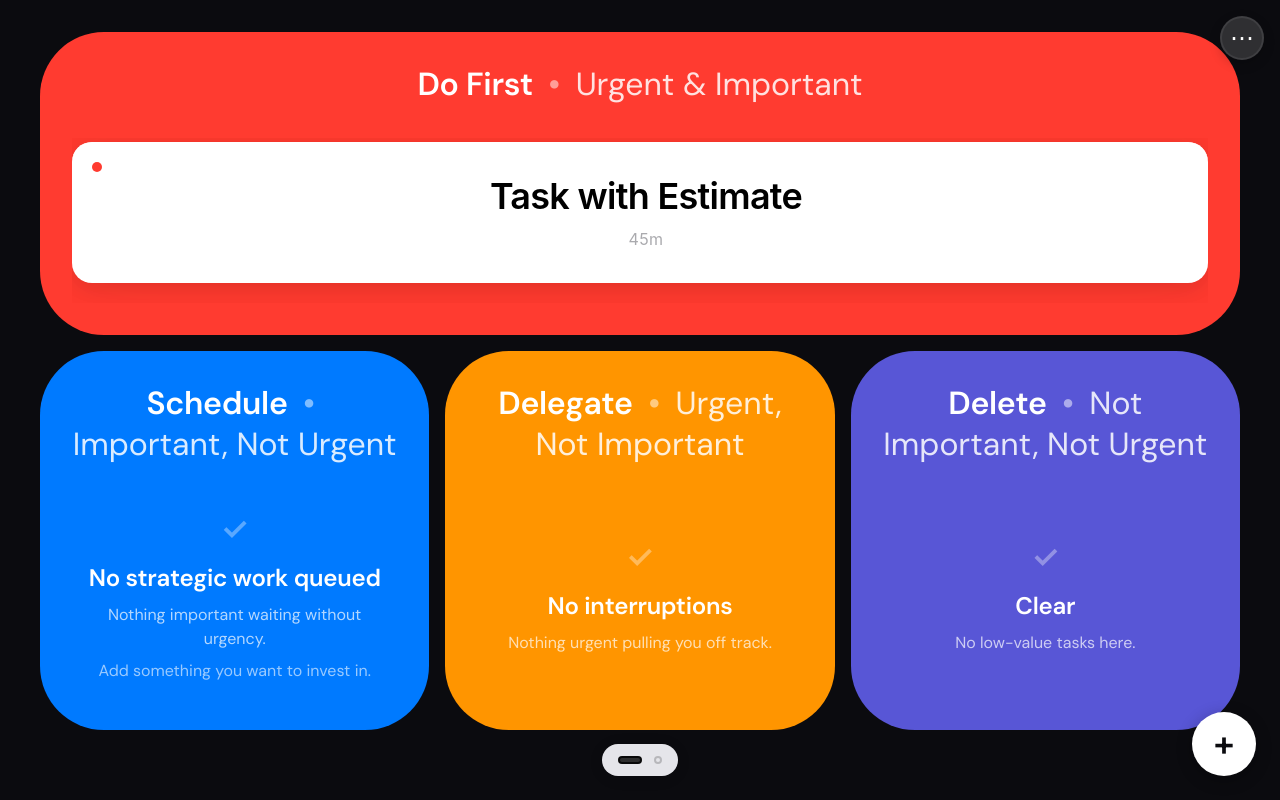
Test case: Right Now View › displays estimate badge when present
Click the button with test id "page-dot-rightNow": (658, 760) [654,756,662,764]
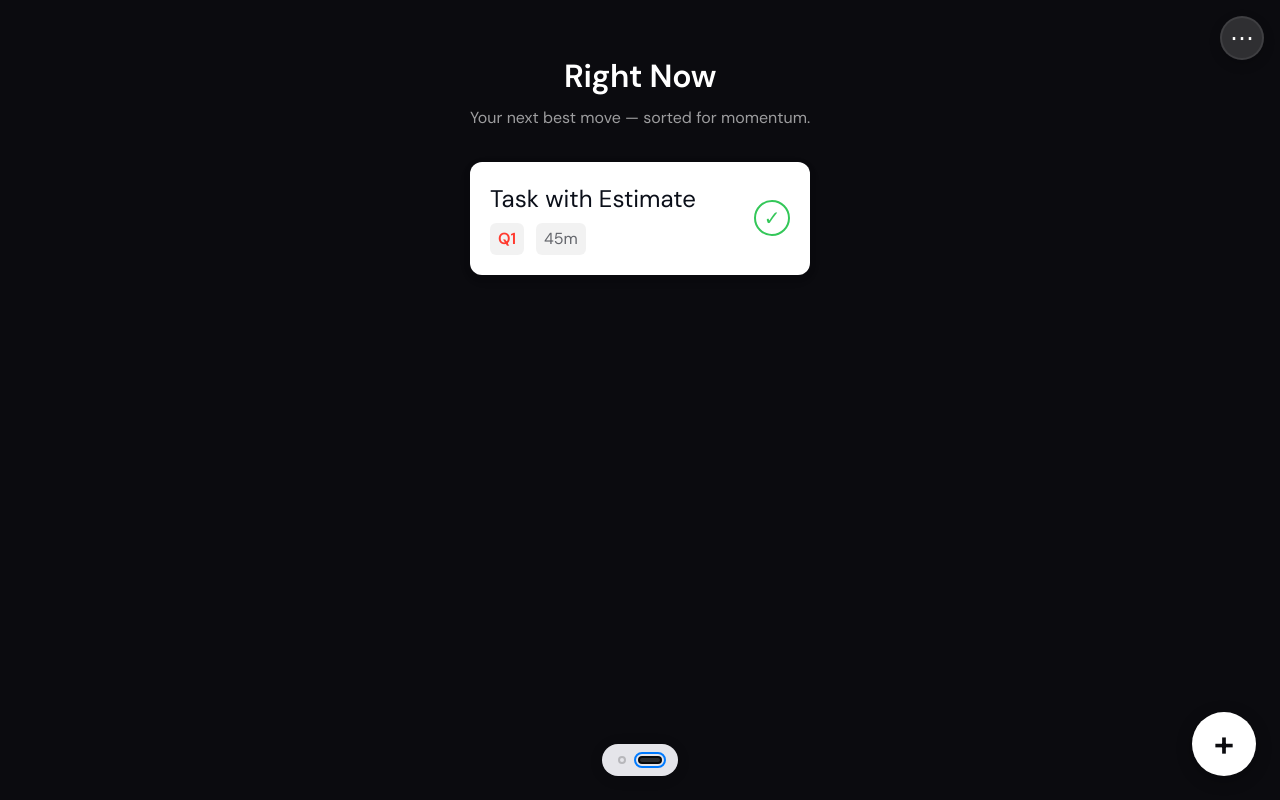
Expected: the text with test id "right-now-estimate-1" reads "45m", [544,228,578,249]
Now the element with test id "right-now-view" is shown, box [446,32,834,299]
